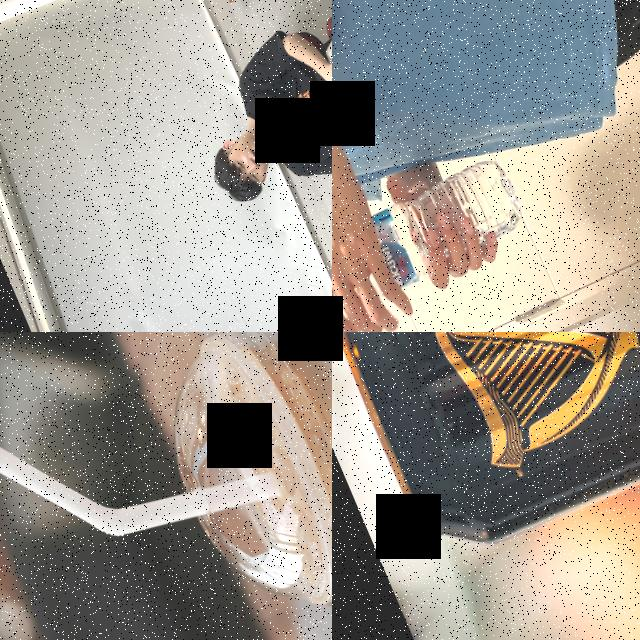bottle: (332, 148, 534, 317)
can: (332, 332, 640, 570)
cup: (129, 332, 332, 640)
